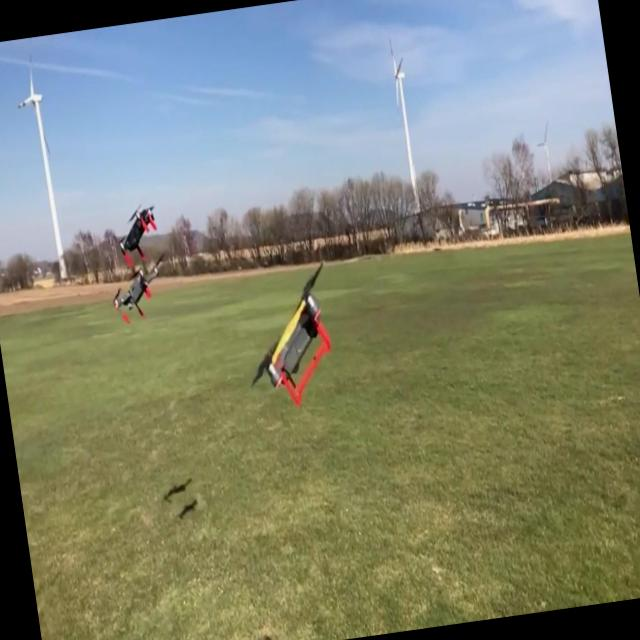drone: (238, 258, 344, 413), (107, 268, 168, 329), (112, 200, 164, 271)
